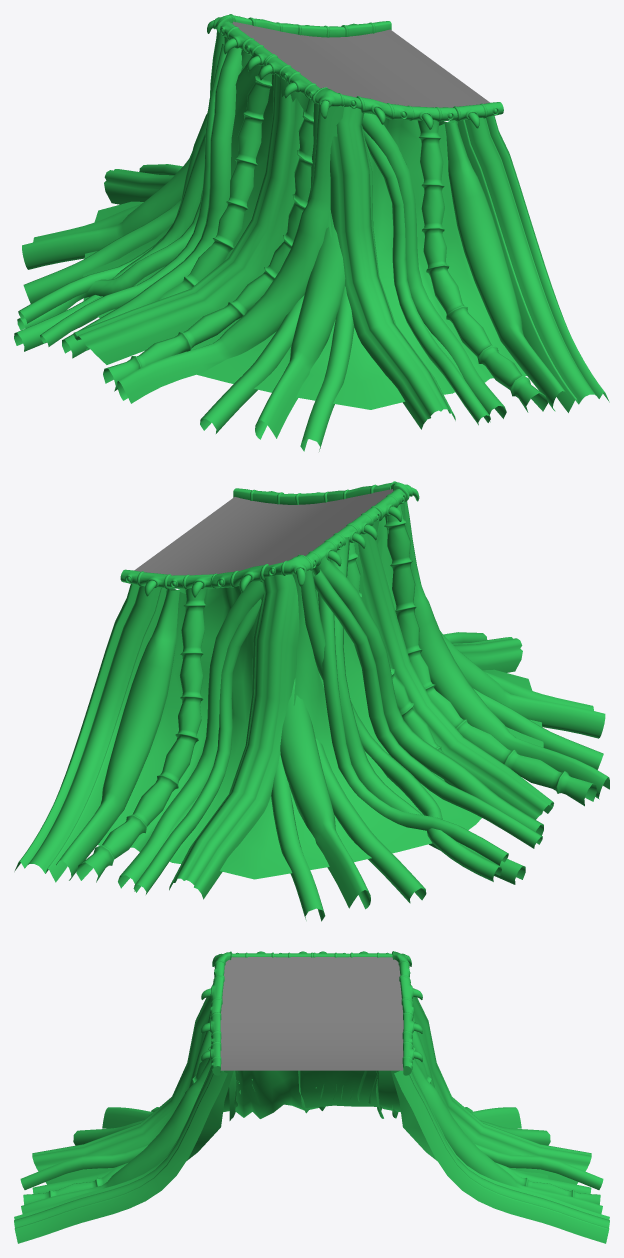
Rendered from Track_alien_14_jump.fbx.
The picture shows the model from 3 angles, top to bottom: view 1: azimuth 30°, elevation 25°; view 2: azimuth 150°, elevation 25°; view 3: azimuth 270°, elevation 25°; orthographic projection. The views are drawn at different scales.
Parts seen in each view (by area): view 1: Side_Rock_14, Road_014; view 2: Side_Rock_14, Road_014; view 3: Side_Rock_14, Road_014.
Part boxes in pixels (left/top/right/bottom): Side_Rock_14: left=14, top=14, right=609, bottom=451; Road_014: left=231, top=21, right=489, bottom=107; Side_Rock_14: left=14, top=481, right=609, bottom=921; Road_014: left=134, top=489, right=394, bottom=575; Side_Rock_14: left=14, top=951, right=609, bottom=1243; Road_014: left=220, top=957, right=403, bottom=1070.
Size of what is drawn, in the model's own units: 4692 by 7160 by 3131.
